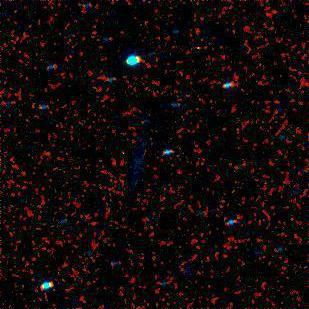star: (103, 135, 133, 165)
